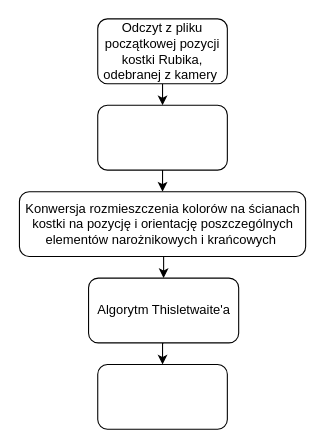
This 324x448 diagram has some shape labels left out. Each missing label, with the box of its shape:
Konwersja kolorów na ogólną notację RLUDFB: (97, 104, 227, 170)
Zapis listy wykonanych ruchów do pliku tekstowego: (97, 363, 227, 429)
